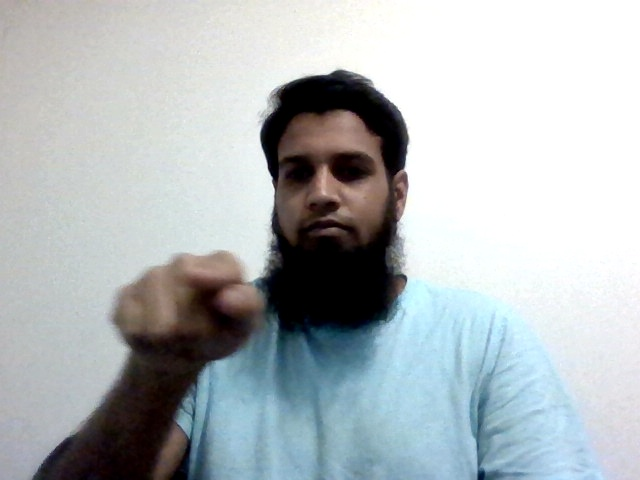you: (109, 249, 271, 367)
